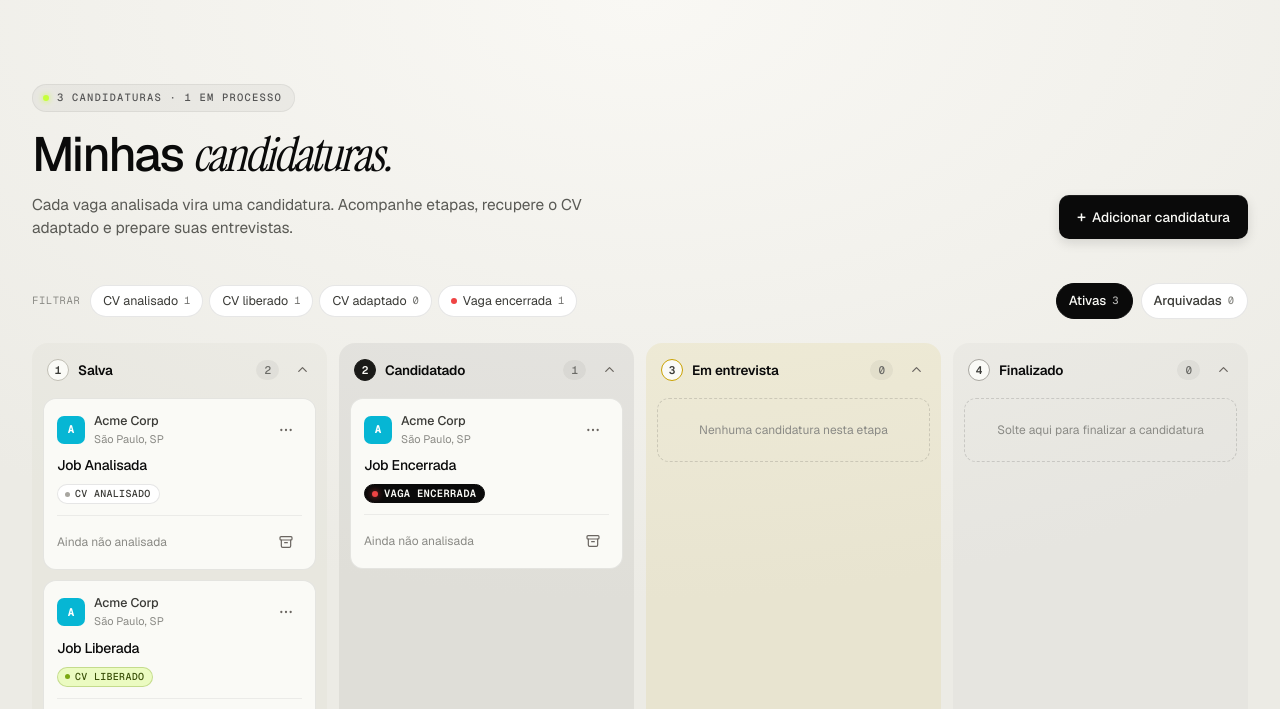
CandidaturasClient › filtros rápidos mostram só as candidaturas marcadas e combinam com qualquer um
What coordinates should you click on to do the following:
click the button "Vaga encerrada 1"
I would click on:
 (508, 301)
Its box is [438,285,577,317].
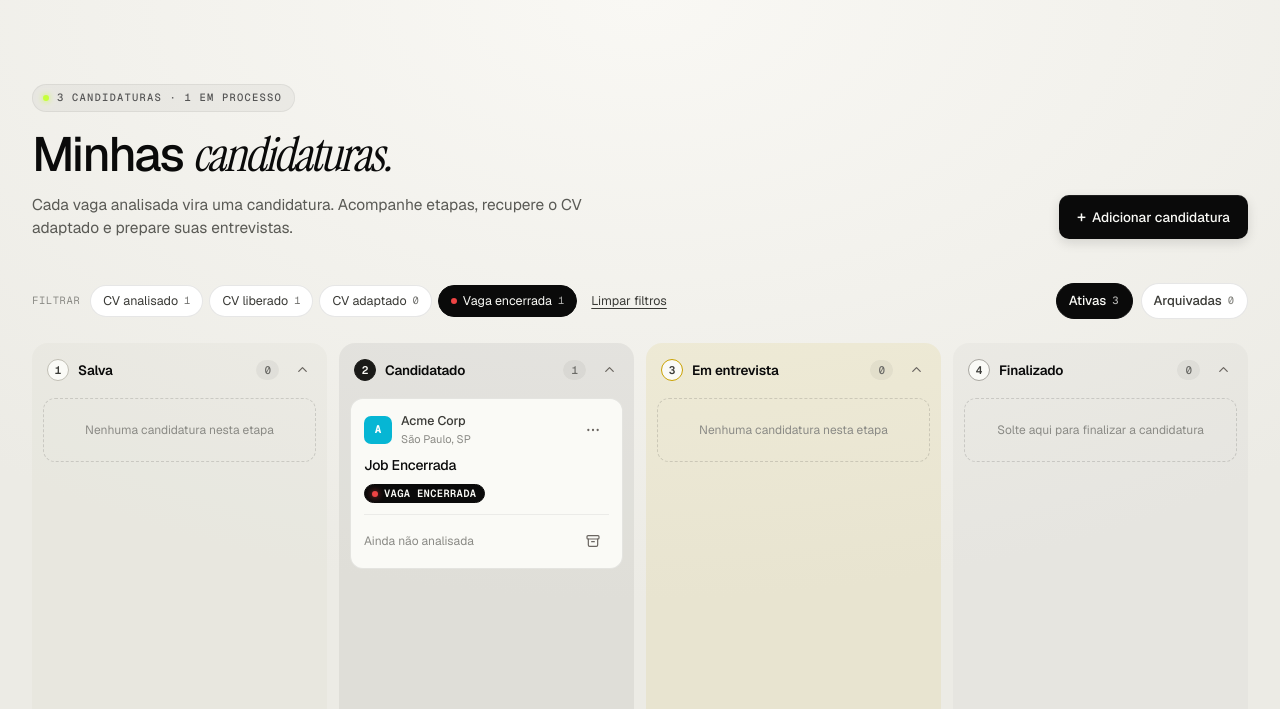
Check: the link "Job Encerrada" is shown, box [364,456,456,474]
Check: the link "Job Analisada" is gone
What coordinates should you click on to do the following:
click the button "CV analisado 1"
I would click on:
 (147, 301)
Its box is [90,285,203,317].
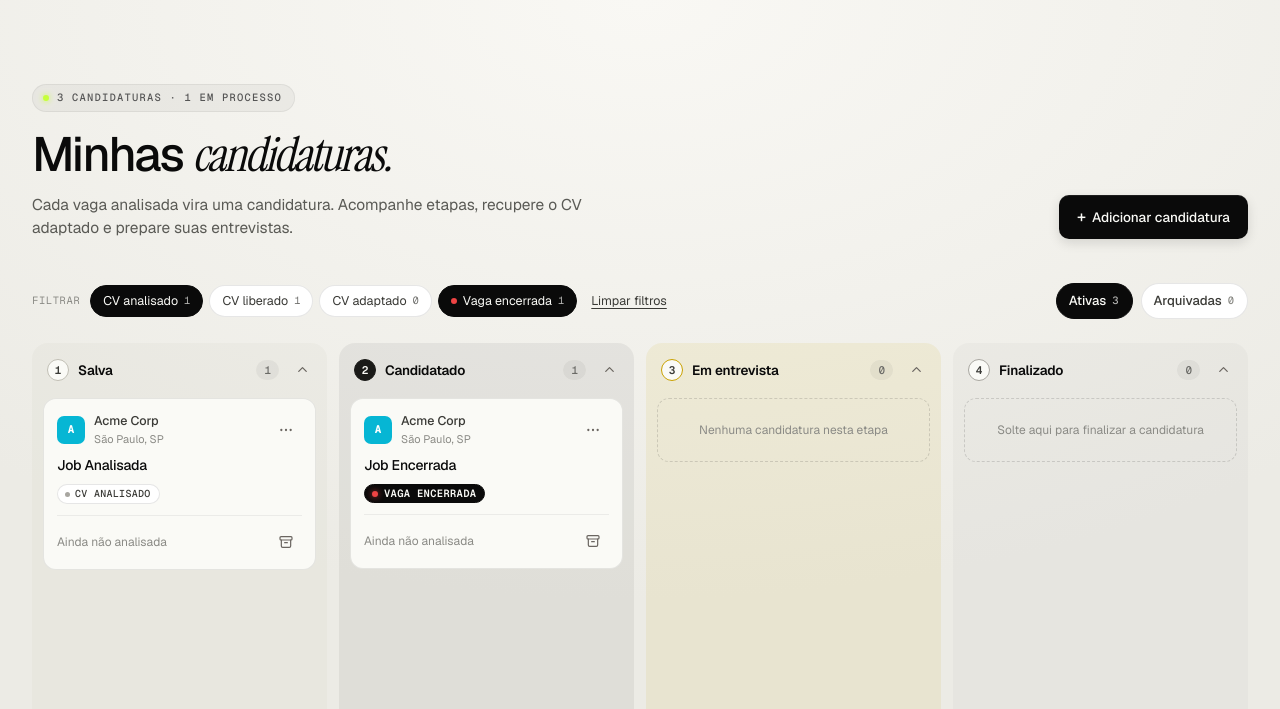
Check: the link "Job Encerrada" is shown, box [364,456,456,474]
Check: the link "Job Analisada" is shown, box [57,456,147,474]
What coordinates should you click on to do the following:
click the button "Limpar filtros"
I would click on:
 (629, 301)
Its box is [583,285,675,317].
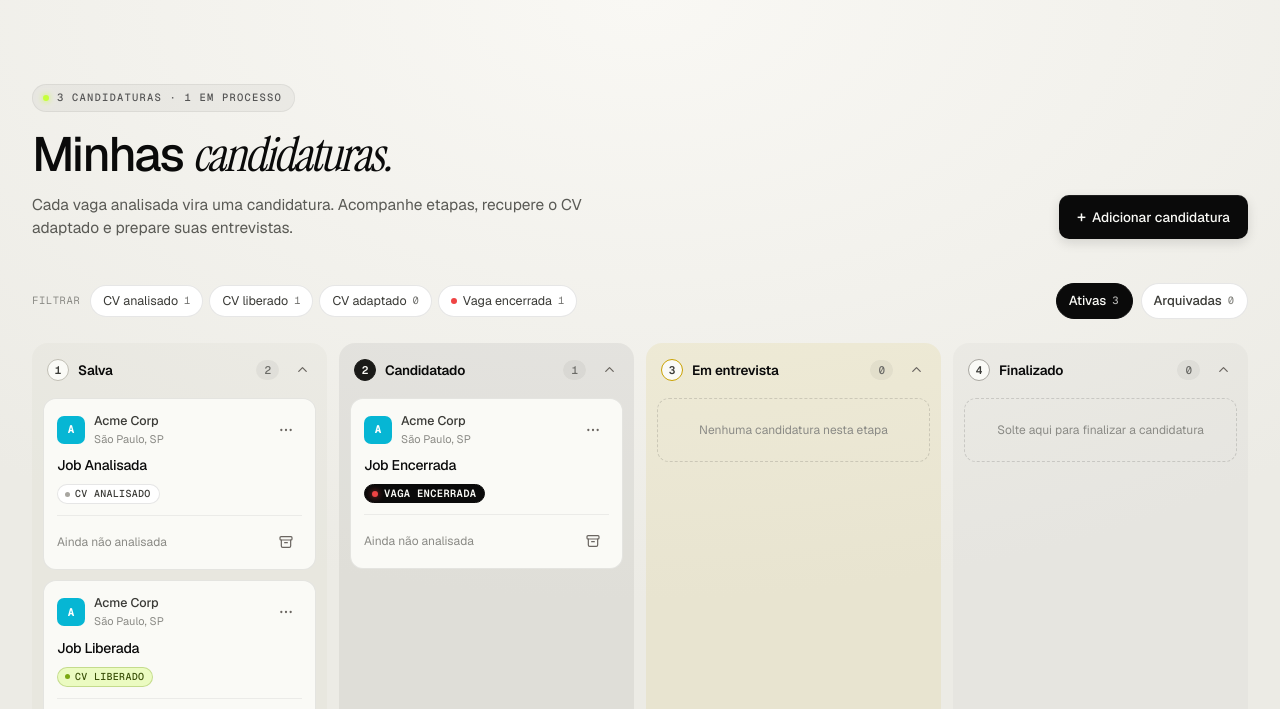
Check: the link "Job Liberada" is shown, box [57,639,139,657]
